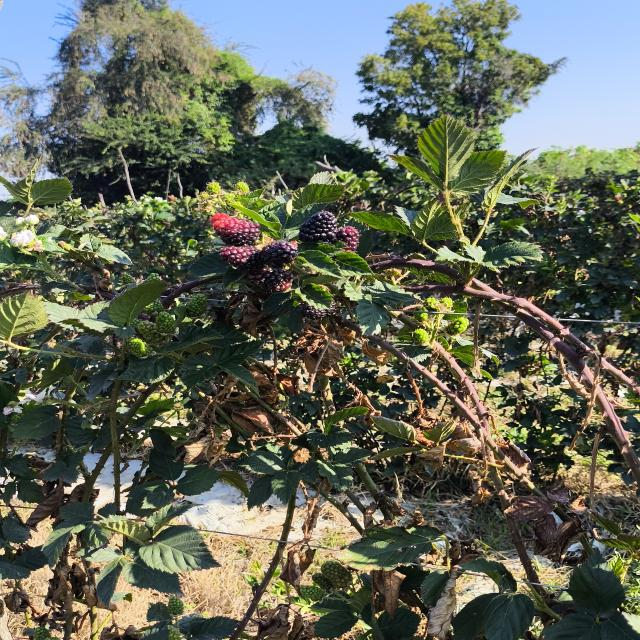maduro: (299, 211, 337, 244), (261, 241, 298, 267), (297, 302, 337, 320), (265, 269, 293, 292), (245, 268, 273, 285)
marron: (213, 216, 260, 246), (219, 246, 258, 267), (336, 226, 359, 252)
